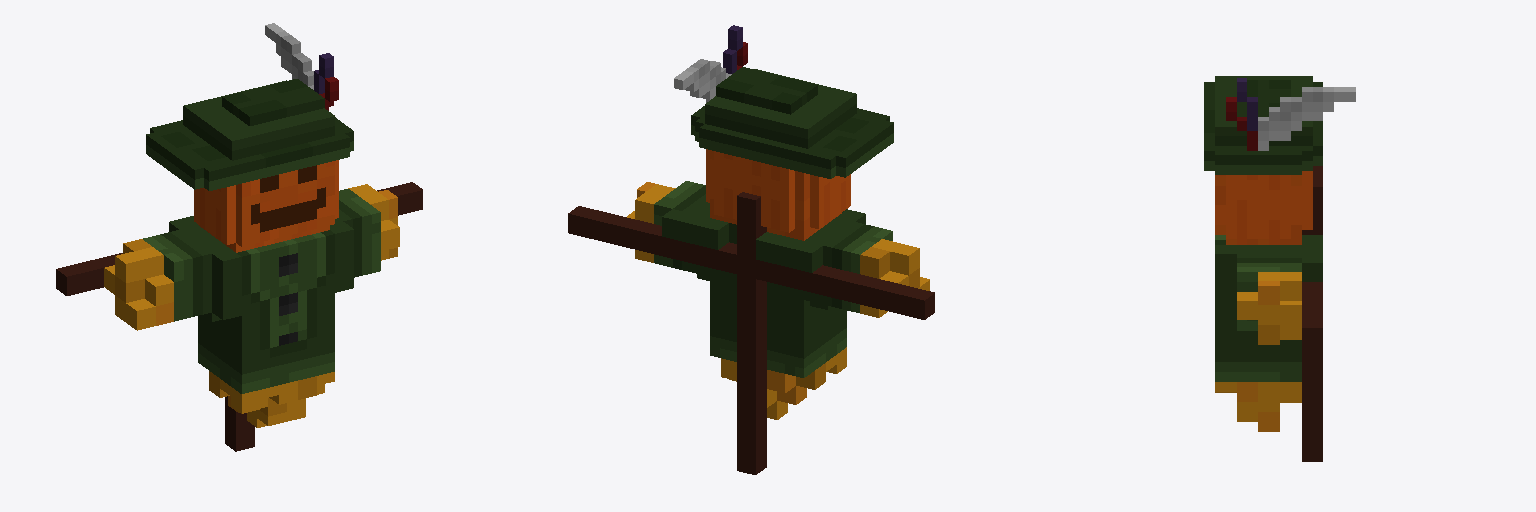
3 views of the same model, side by side, from view 1: azimuth 30°, elevation 25°; view 2: azimuth 150°, elevation 25°; view 3: azimuth 270°, elevation 25° (orthographic).
Parts seen in each view (by area): view 1: carrot_1; view 2: carrot_1; view 3: carrot_1.
Boxes of the visible parts, <box> form: carrot_1: <box>56,23,422,451</box>; carrot_1: <box>568,25,934,474</box>; carrot_1: <box>1204,76,1355,461</box>.
Size of the model in its own units: 3.8 by 4.1 by 1.4.
1 materials, 1 textured.